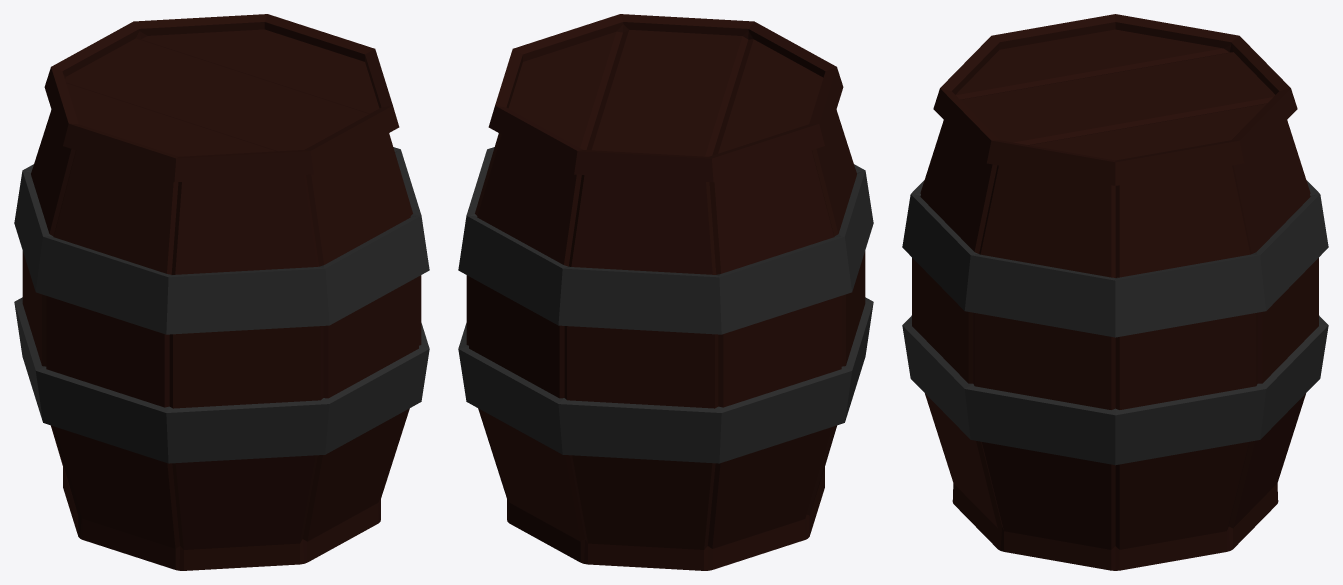
The model's file is Barrel_Red_Brown.obj.
The picture shows the model from 3 angles, left to right: view 1: azimuth 30°, elevation 25°; view 2: azimuth 150°, elevation 25°; view 3: azimuth 270°, elevation 25°; orthographic projection.
Parts seen in each view (by area): view 1: Barrel_Red_Brown; view 2: Barrel_Red_Brown; view 3: Barrel_Red_Brown.
Boxes of the visible parts, box(x1,y1,x2,y2) form: Barrel_Red_Brown: box(14, 14, 429, 570); Barrel_Red_Brown: box(458, 14, 873, 570); Barrel_Red_Brown: box(902, 14, 1328, 570).
Size of the model in its own units: 2.6 by 2.79 by 2.6.
